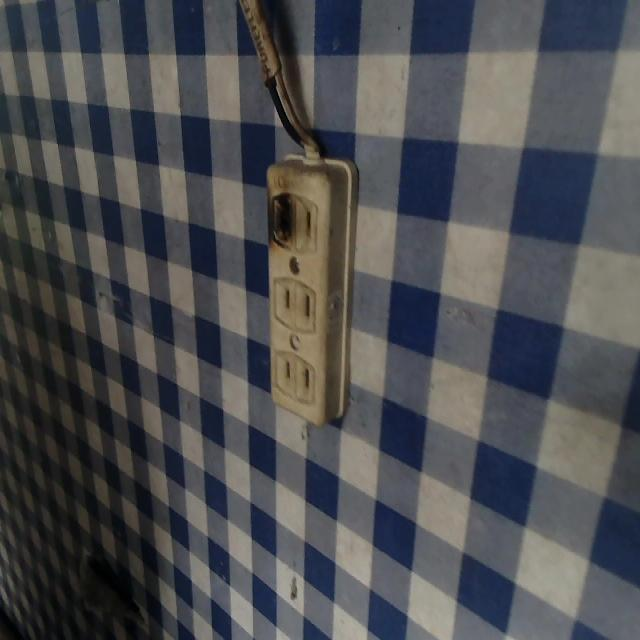-: (268, 190, 299, 247)
